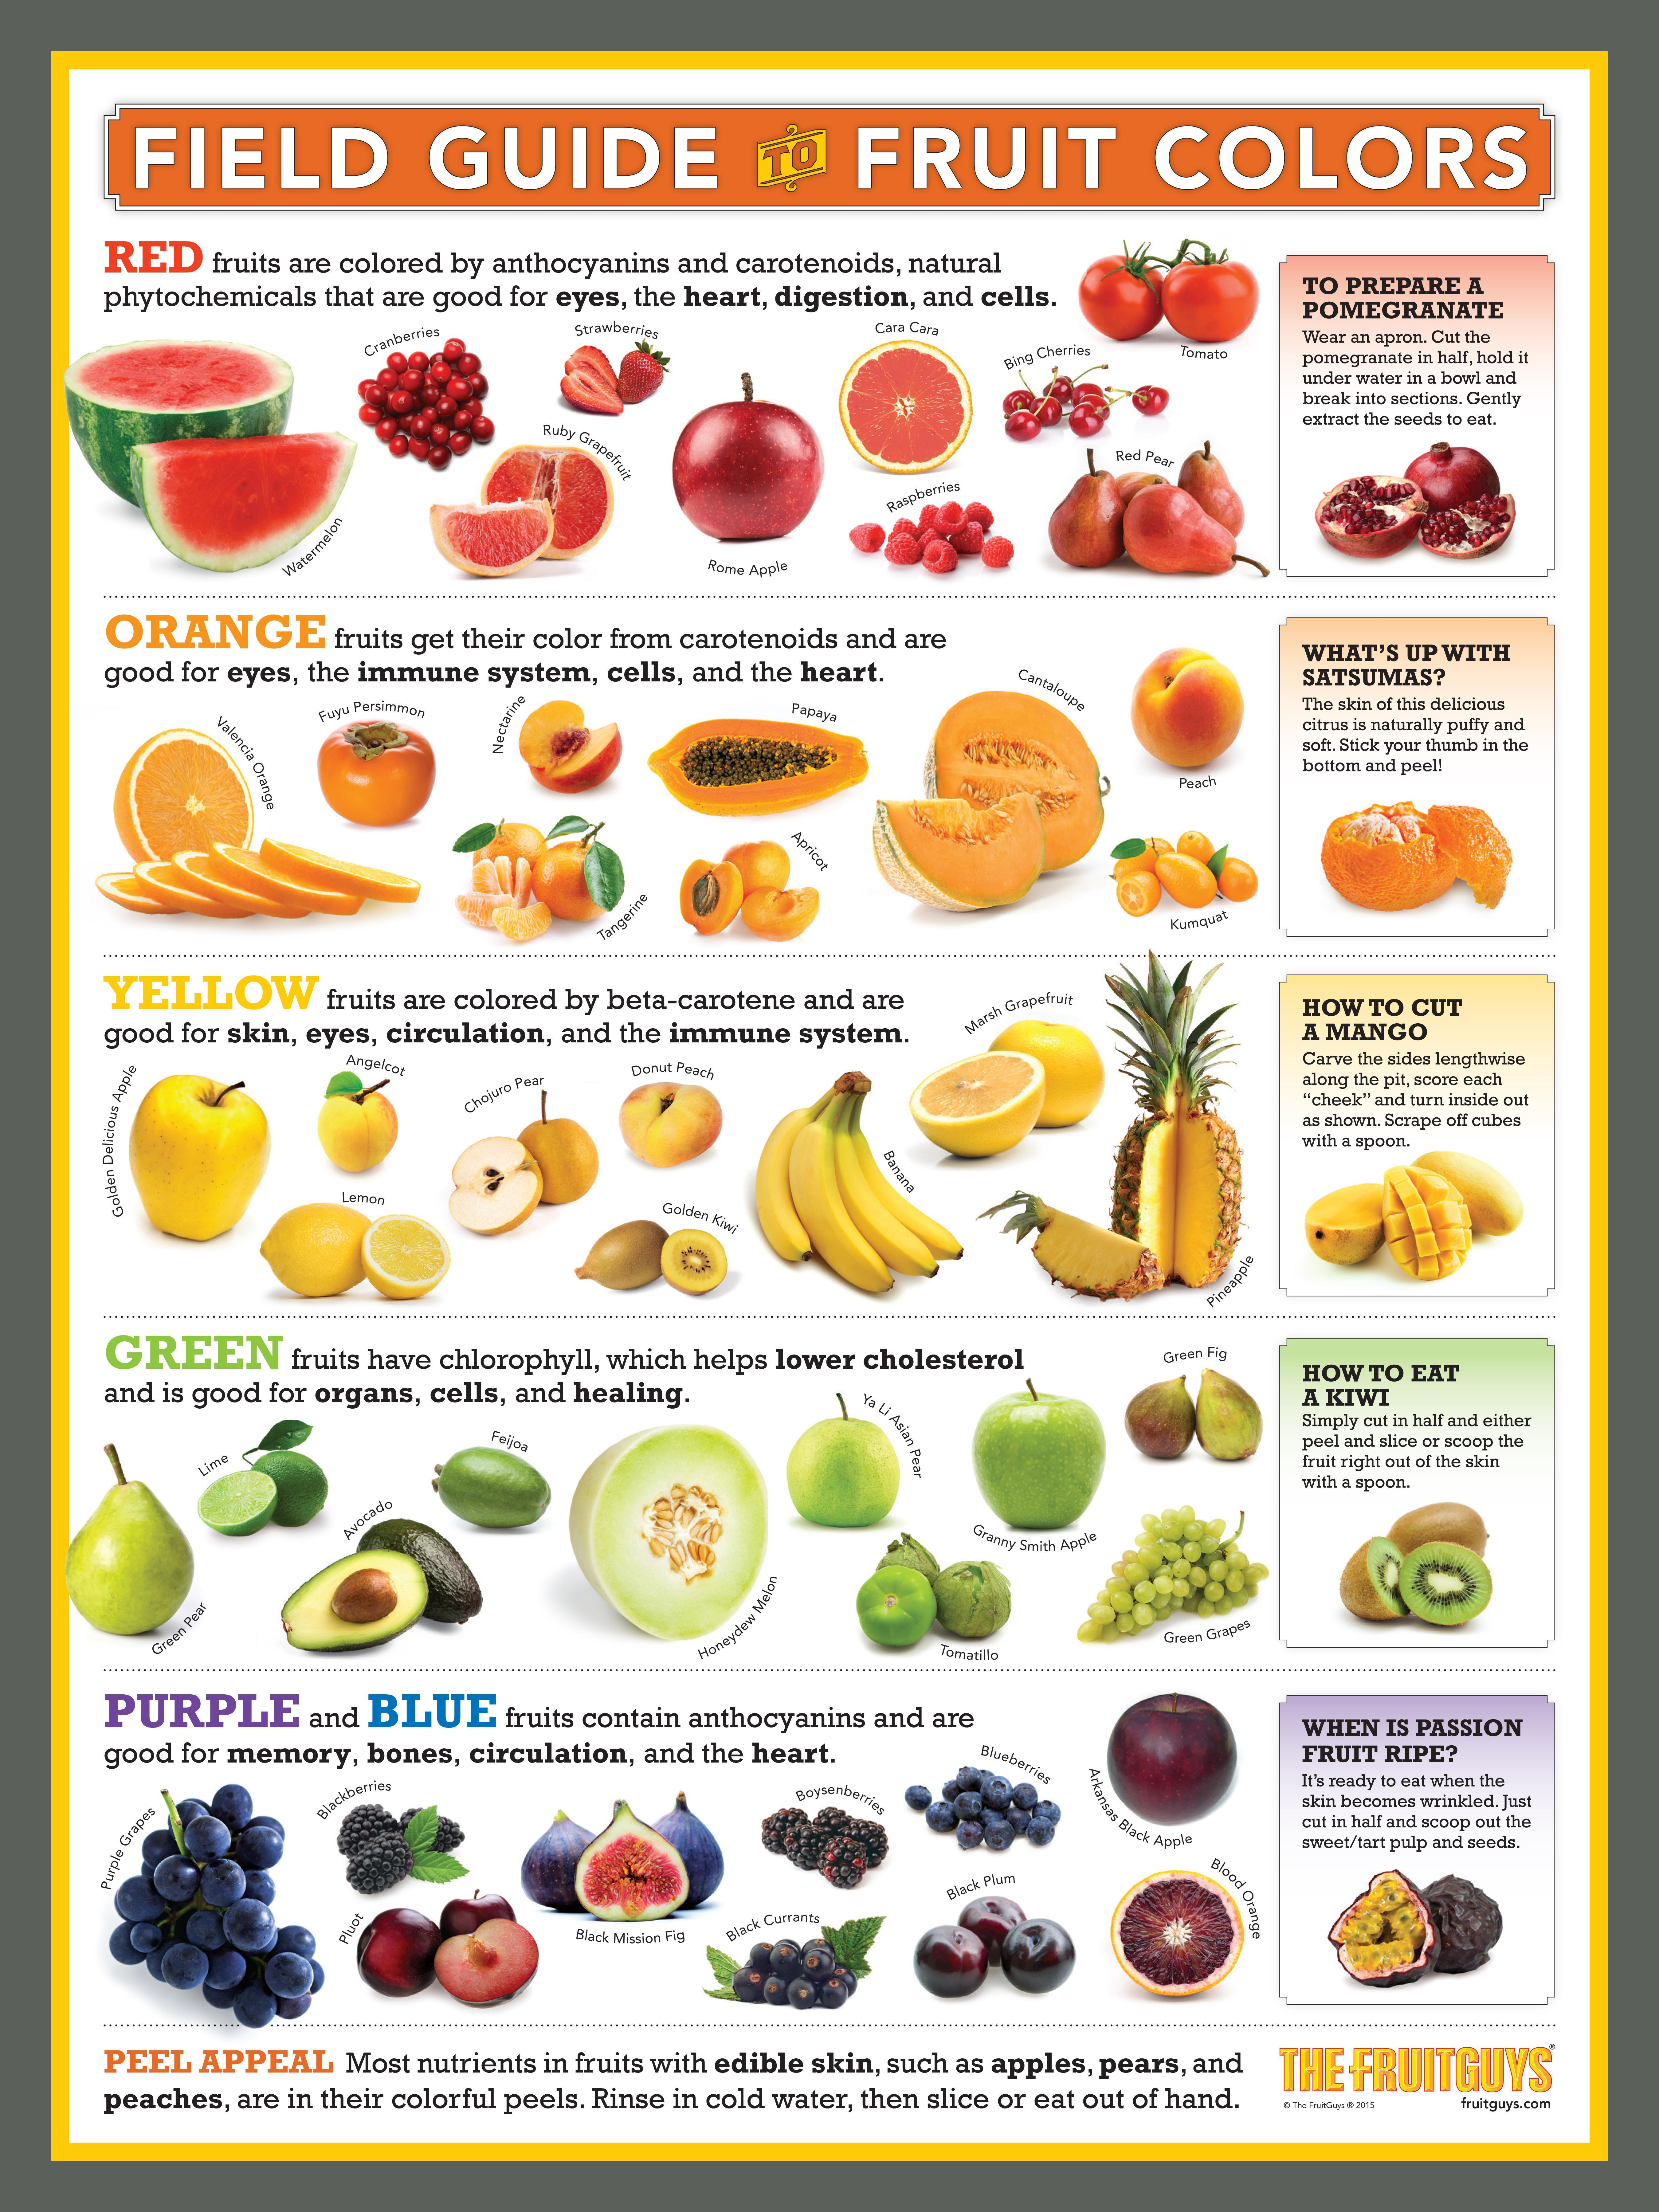apple: (673, 404, 824, 542)
